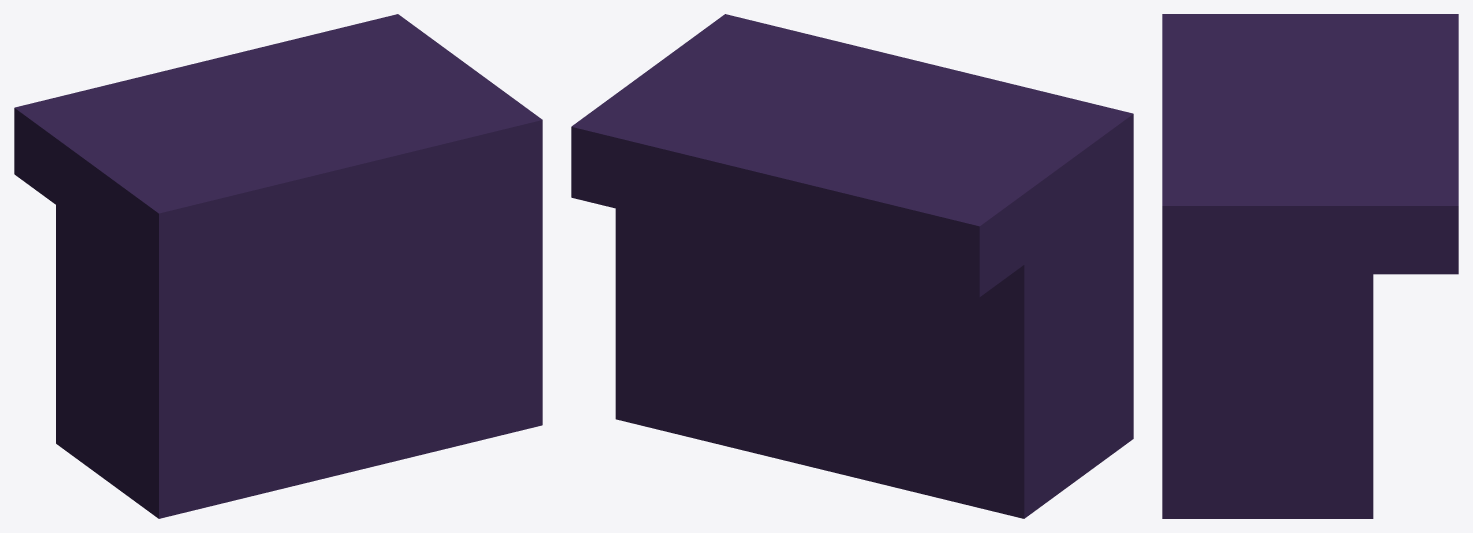
The model's file is CDCounter1.fbx.
3 views of the same model, side by side, from view 1: azimuth 30°, elevation 25°; view 2: azimuth 150°, elevation 25°; view 3: azimuth 270°, elevation 25° (orthographic). The views are drawn at different scales.
Visible parts, largest first — view 1: Counter.003; view 2: Counter.003; view 3: Counter.003.
Part boxes in pixels (left/top/right/bottom): Counter.003: left=14, top=14, right=542, bottom=518; Counter.003: left=571, top=14, right=1133, bottom=518; Counter.003: left=1162, top=14, right=1458, bottom=518.
Bounding box in the file's own units: 110 × 83.86 × 72.01.
